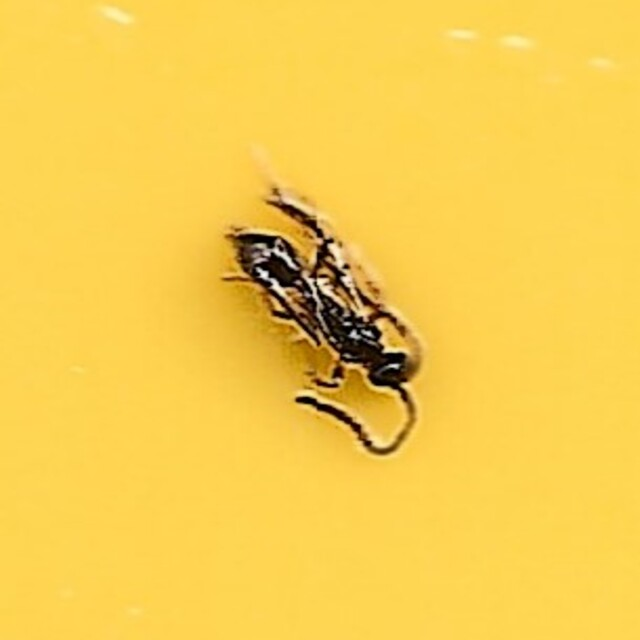Hymenoptera: (210, 183, 430, 457)
